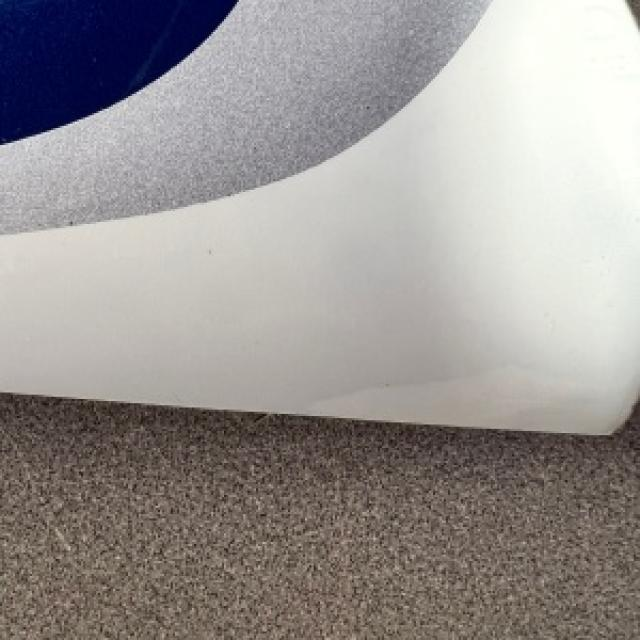healthy: (0, 0, 638, 429)
